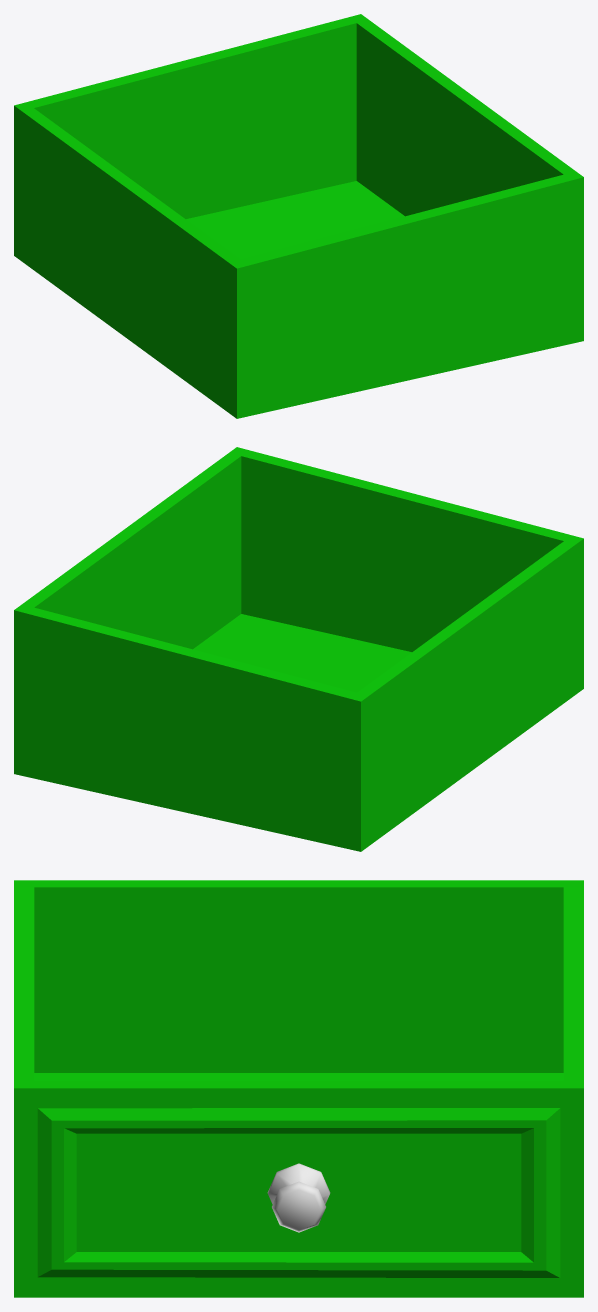
File: small_table_drawer.fbx
The picture shows the model from 3 angles, top to bottom: view 1: azimuth 30°, elevation 25°; view 2: azimuth 150°, elevation 25°; view 3: azimuth 270°, elevation 25°; orthographic projection. The views are drawn at different scales.
Parts seen in each view (by area): view 1: drawer; view 2: drawer; view 3: drawer, handle.
Boxes of the visible parts, bbox=[...] form: drawer: bbox=[14, 14, 583, 418]; drawer: bbox=[14, 447, 583, 851]; drawer: bbox=[14, 880, 583, 1297]; handle: bbox=[267, 1163, 330, 1232].
Bounding box in the file's own units: 19.3 × 8.07 × 19.89.
